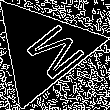M_SW: (8, 16, 79, 83)
